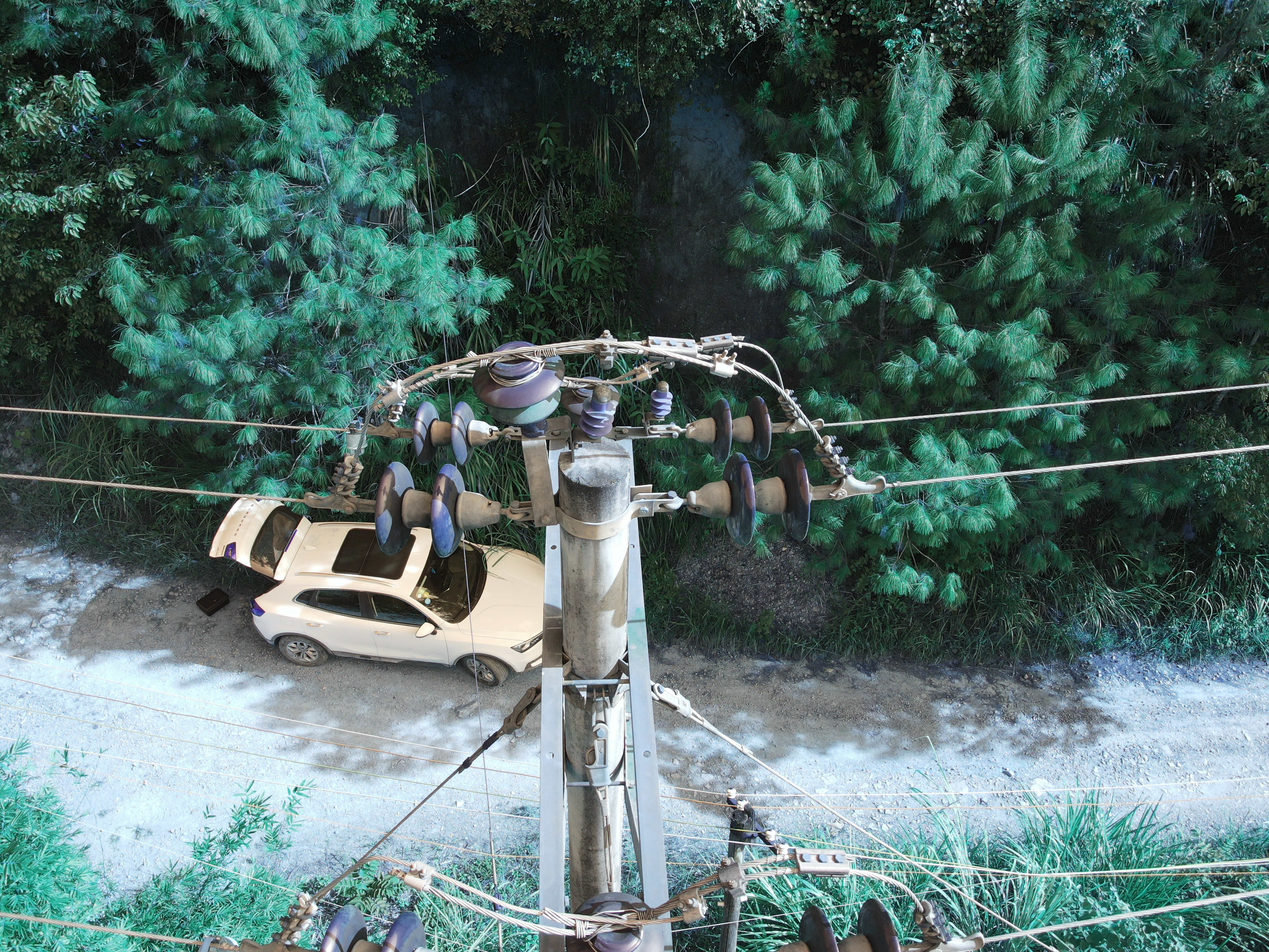severe_soiling_no_discharge_whole: (372, 459, 502, 561), (468, 338, 569, 436)
